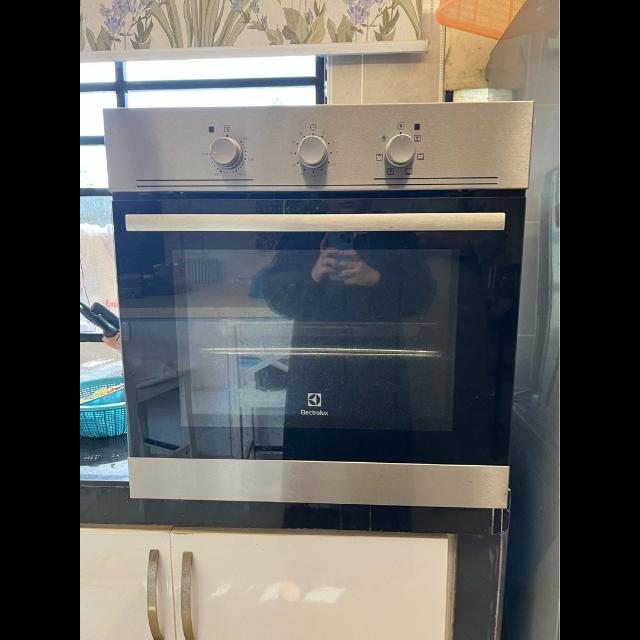Oven: (105, 99, 523, 507)
